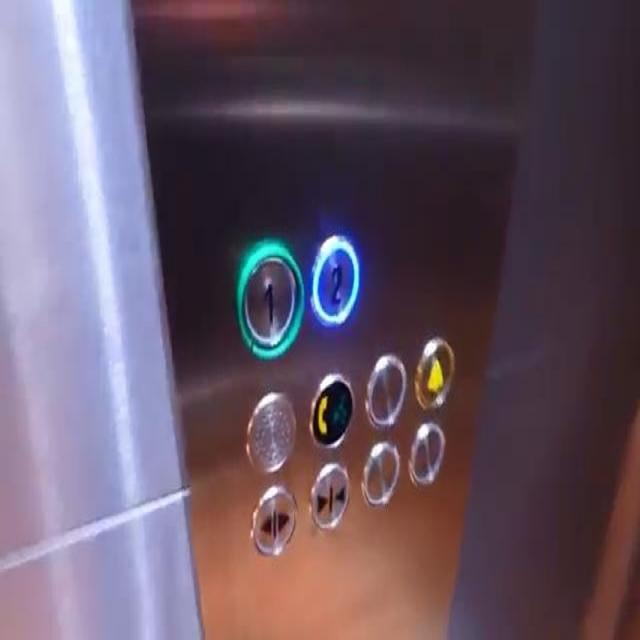1: (233, 236, 305, 357)
2: (310, 231, 359, 329)
alarm: (414, 336, 456, 413)
call: (310, 372, 353, 449)
close: (308, 456, 350, 532)
empty: (365, 354, 405, 426), (361, 440, 401, 508), (408, 418, 445, 490)
open: (249, 482, 299, 558)
speaker: (243, 389, 296, 472)
